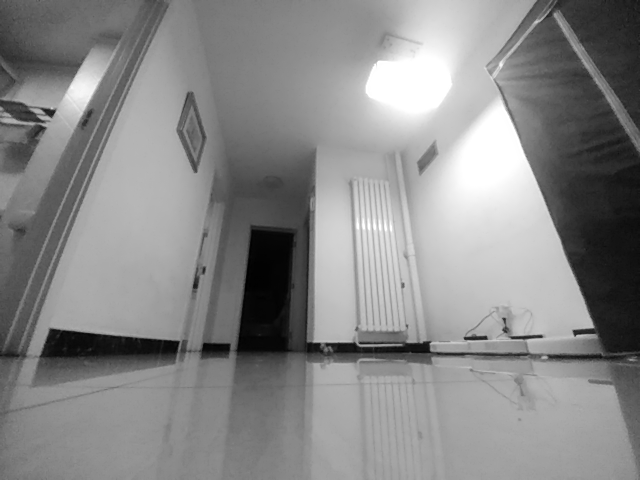toy: (318, 342, 338, 356)
